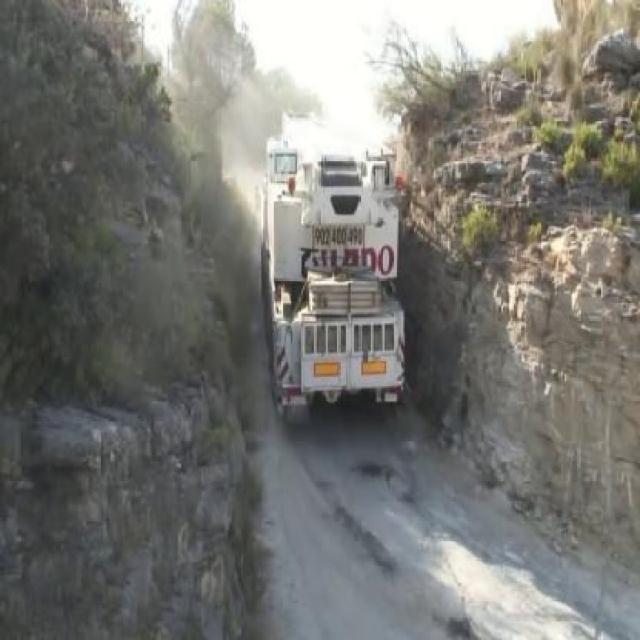Mobile Crane: (259, 110, 412, 424)
